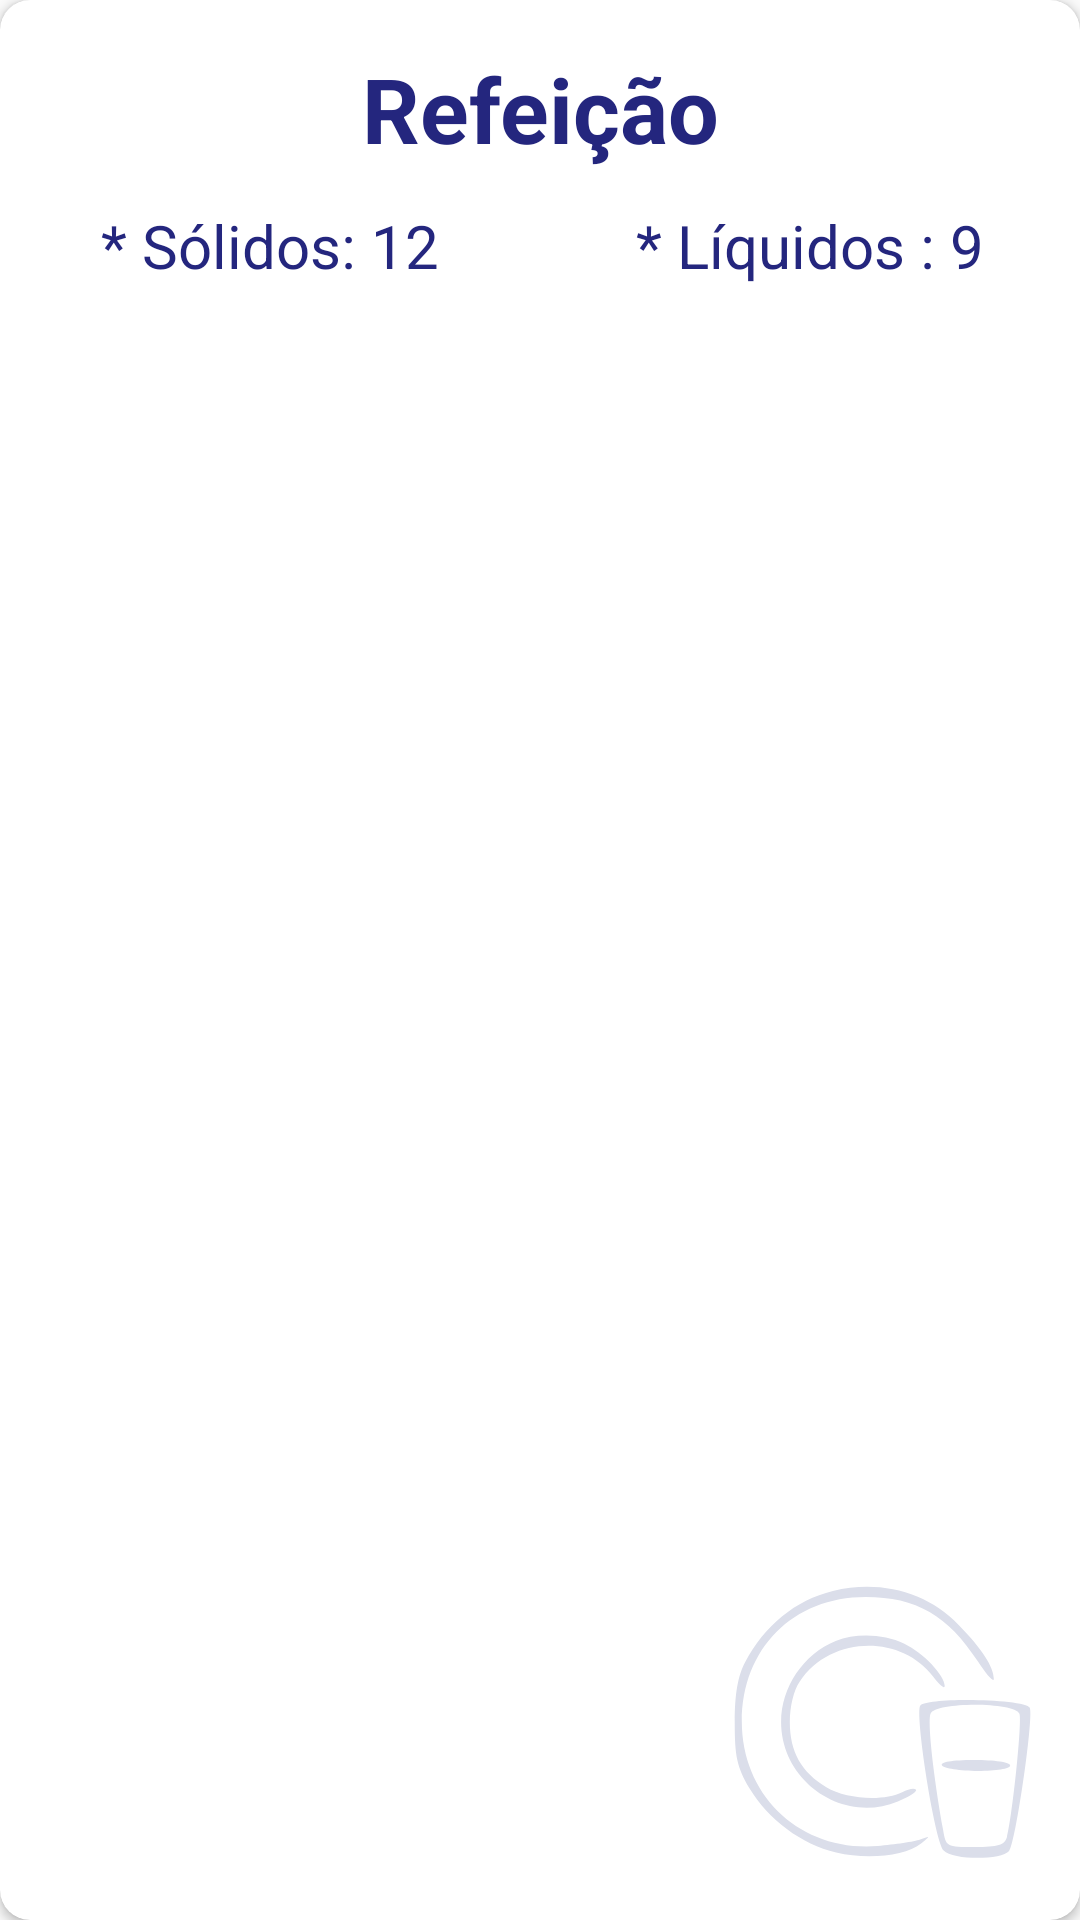

Icon bounding boxes for this 1080*1920 phone screenshot, format [x1, y1, x2, y2]:
meal fade: [735, 1587, 1030, 1858]
